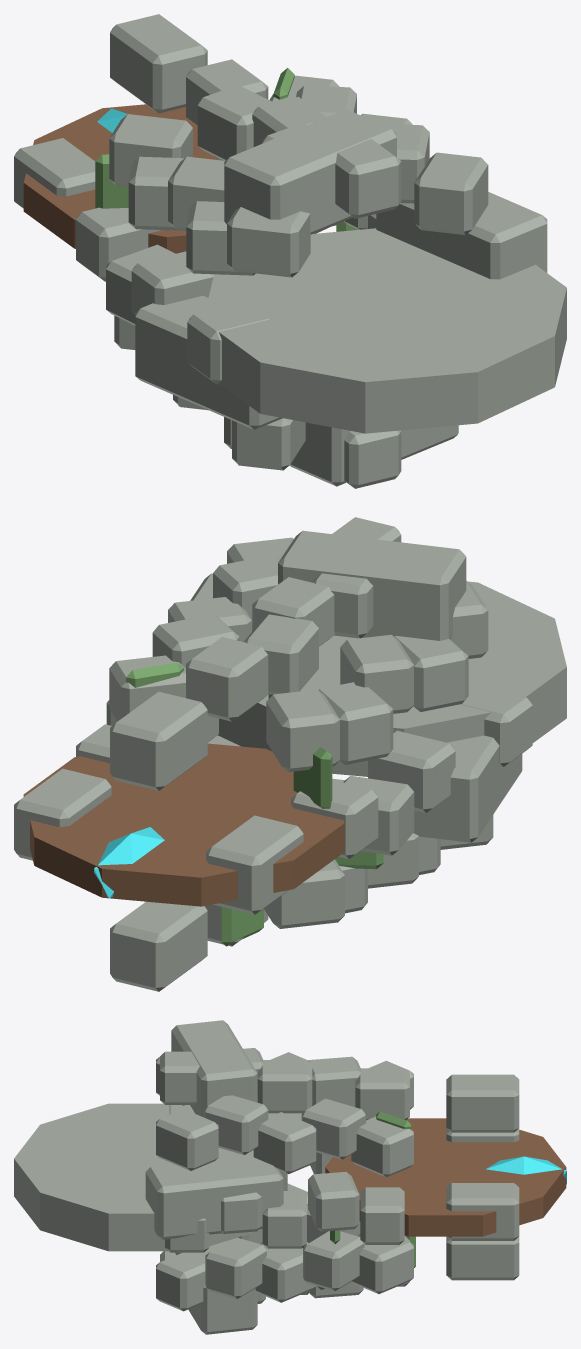
The model's file is mosswatch_tower_v1.glb.
3 renders of one model, top to bottom at view 1: azimuth 30°, elevation 25°; view 2: azimuth 150°, elevation 25°; view 3: azimuth 270°, elevation 25°, orthographic. The views are drawn at different scales.
Visible parts, largest first — view 1: Tower_Base, Tower_Platform, Moss_Patch_0; view 2: Tower_Base, Tower_Platform, Moss_Patch_0, Tower_CrownCrystal; view 3: Tower_Base, Tower_Platform, Tower_CrownCrystal, Moss_Patch_0.
Part boxes in pixels (x1,y1,x2,y2): Tower_Base: (14, 14, 566, 488); Tower_Platform: (23, 104, 331, 253); Moss_Patch_0: (95, 68, 357, 231); Tower_Base: (14, 517, 566, 991); Tower_Platform: (23, 743, 344, 906); Moss_Patch_0: (126, 662, 383, 946); Tower_CrownCrystal: (94, 827, 164, 898); Tower_Base: (14, 1020, 519, 1334); Tower_Platform: (325, 1118, 566, 1236); Tower_CrownCrystal: (486, 1156, 566, 1184); Moss_Patch_0: (317, 1111, 415, 1289).
Bounding box in the file's own units: 4.47 × 4.04 × 8.49.
